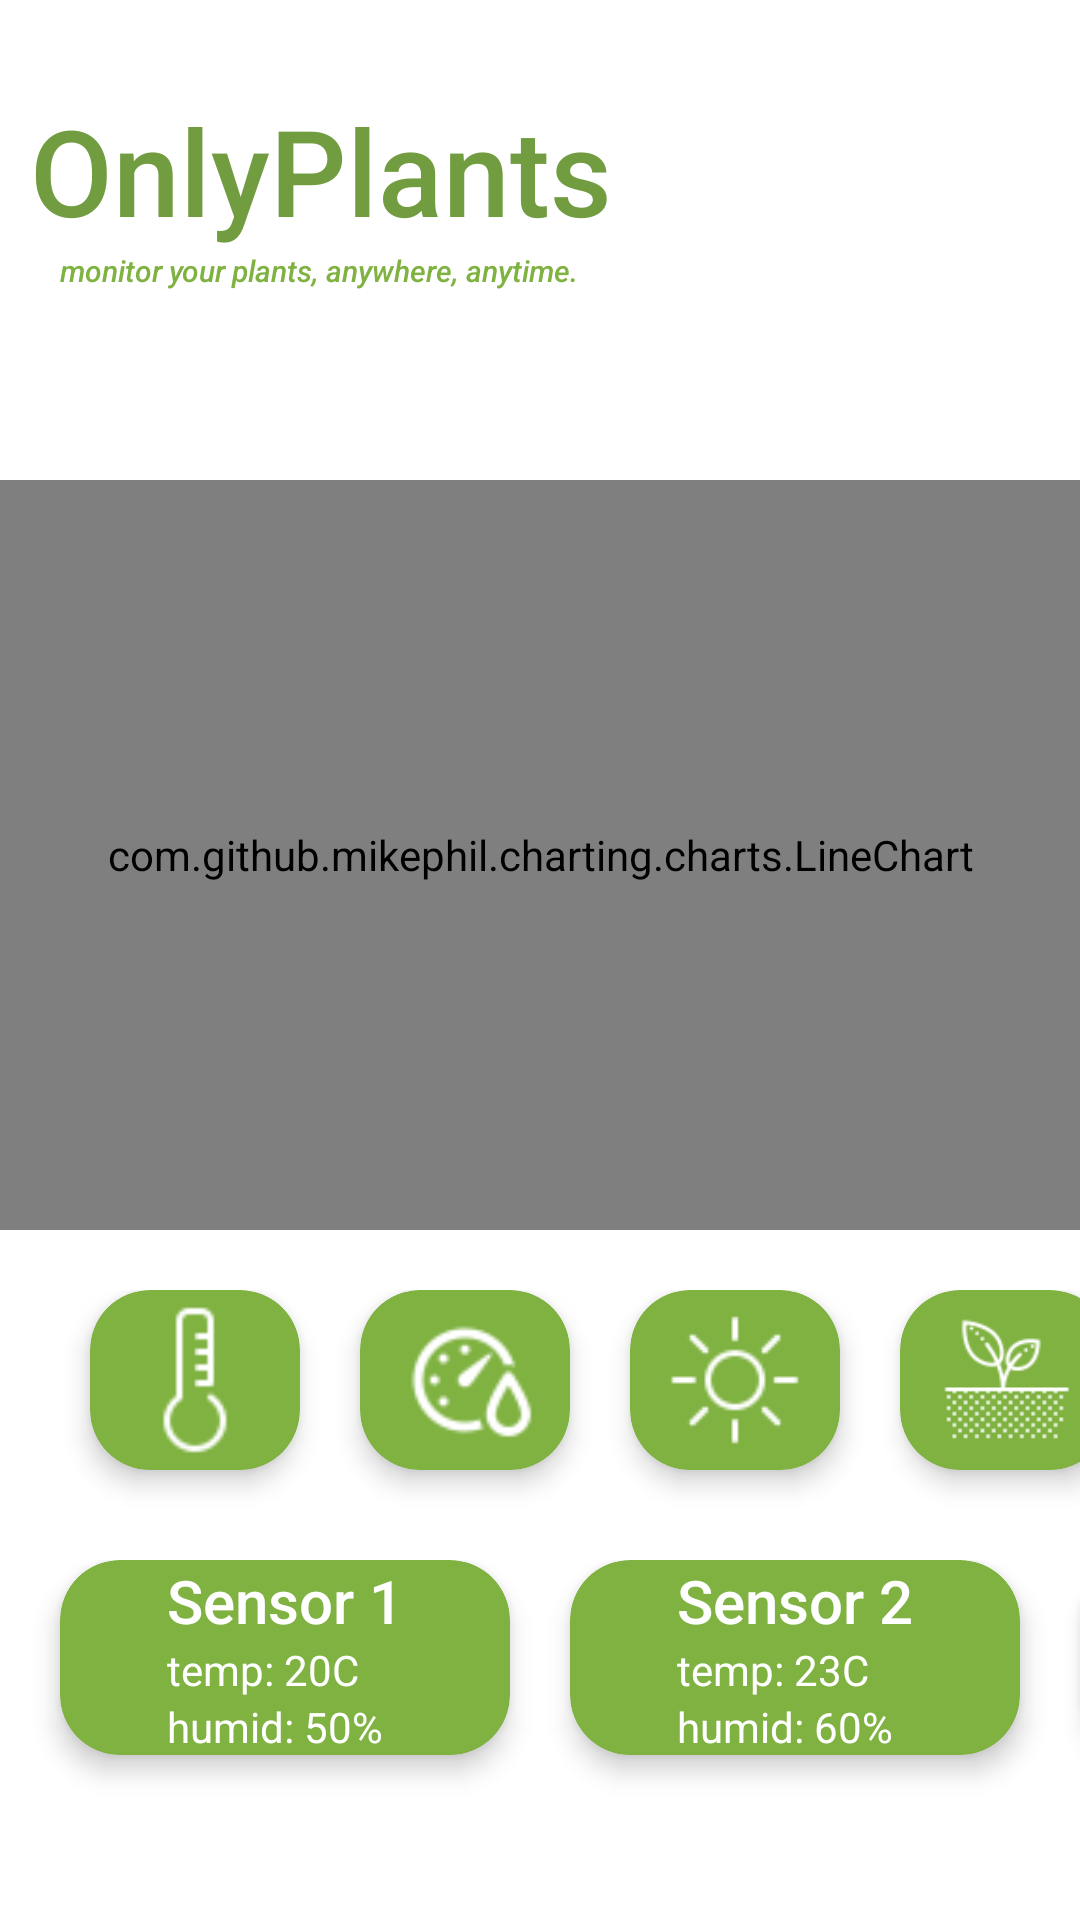

Screen size 1080 x 1920. Icon name, then its center in pixels as [x,y]:
humid symbol: [471,1381]
soil symbol: [1006,1379]
sunlight symbol: [735,1380]
